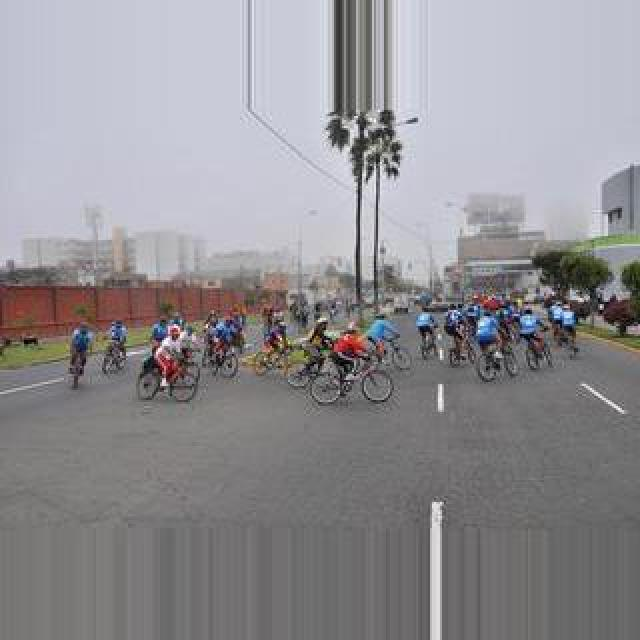Person: (312, 352, 394, 406), (136, 354, 198, 402)
